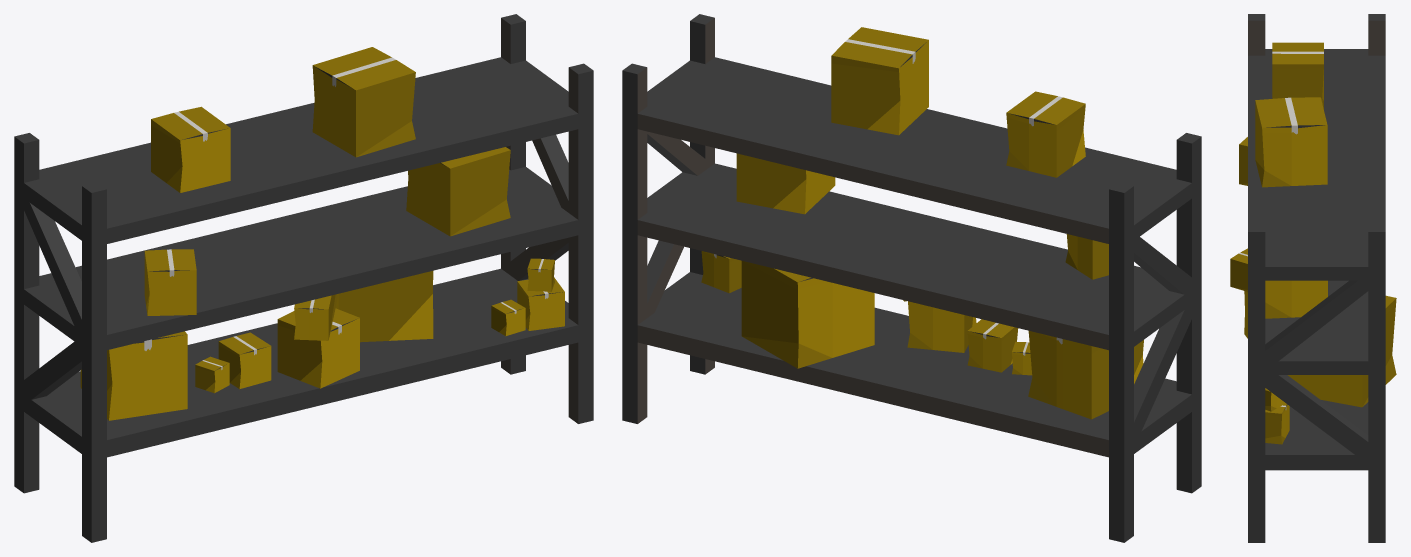
The model's file is shelf_boxes_2.fbx.
3 renders of one model, left to right at view 1: azimuth 30°, elevation 25°; view 2: azimuth 150°, elevation 25°; view 3: azimuth 270°, elevation 25°, orthographic. The views are drawn at different scales.
Parts seen in each view (by area): view 1: mesh_RackBoxes2; view 2: mesh_RackBoxes2; view 3: mesh_RackBoxes2.
Boxes of the visible parts, <box> form: mesh_RackBoxes2: <box>14,14,593,542</box>; mesh_RackBoxes2: <box>622,14,1201,542</box>; mesh_RackBoxes2: <box>1230,14,1396,542</box>.
Bounding box in the file's own units: 3 × 2.2 × 0.9669.
